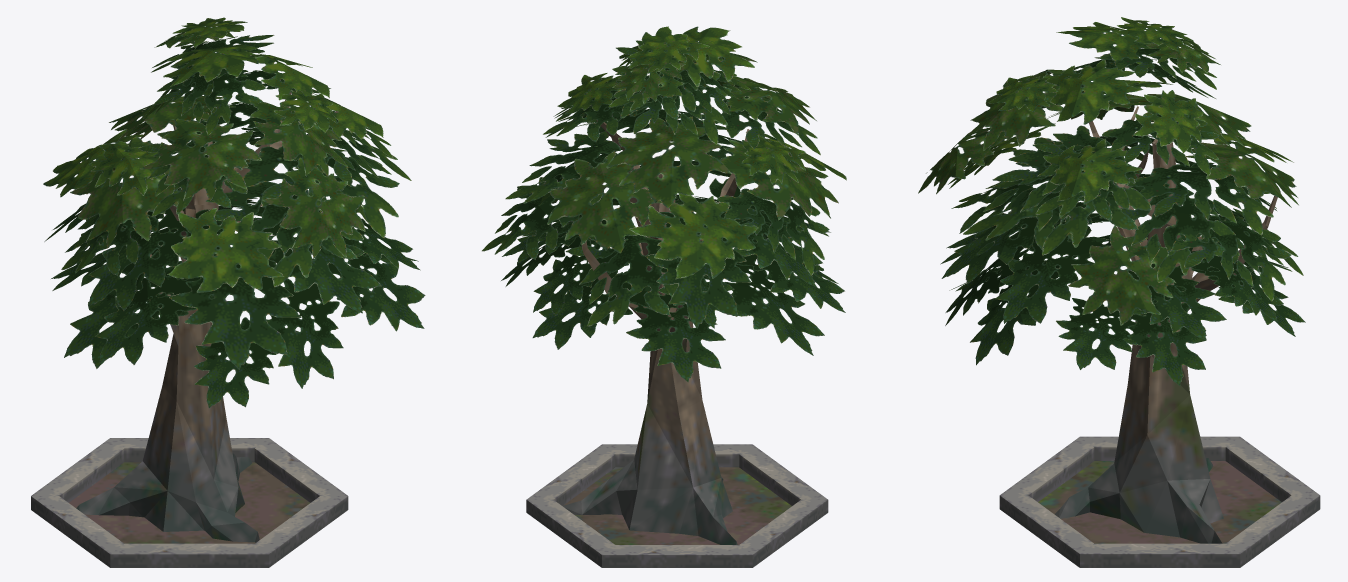
Rendered from plant_lobbynew02_zhiwu_shu01.FBX.
3 renders of one model, left to right at view 1: azimuth 30°, elevation 25°; view 2: azimuth 150°, elevation 25°; view 3: azimuth 270°, elevation 25°, orthographic. The views are drawn at different scales.
Parts seen in each view (by area): view 1: plant_lobbynew02_zhiwu_shu01; view 2: plant_lobbynew02_zhiwu_shu01; view 3: plant_lobbynew02_zhiwu_shu01.
Part boxes in pixels (x1,y1,x2,y2): plant_lobbynew02_zhiwu_shu01: [31, 17, 425, 567]; plant_lobbynew02_zhiwu_shu01: [482, 26, 846, 567]; plant_lobbynew02_zhiwu_shu01: [918, 17, 1320, 567].
Size of the model in its own units: 610 by 633 by 807.
